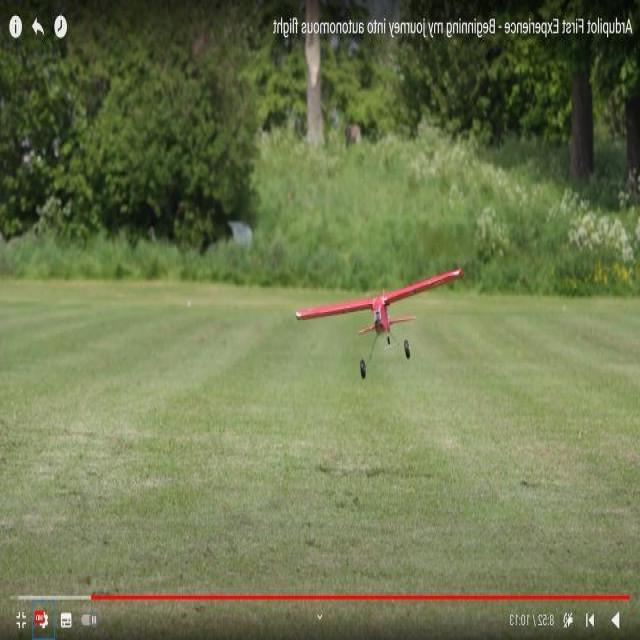iha: (296, 299, 466, 353)
